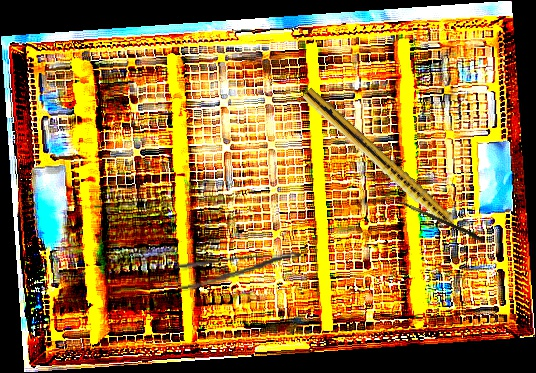Dressing Forceps: (174, 249, 305, 292)
Handpiece: (298, 86, 476, 249)
Hook Surgical: (377, 191, 485, 243)
